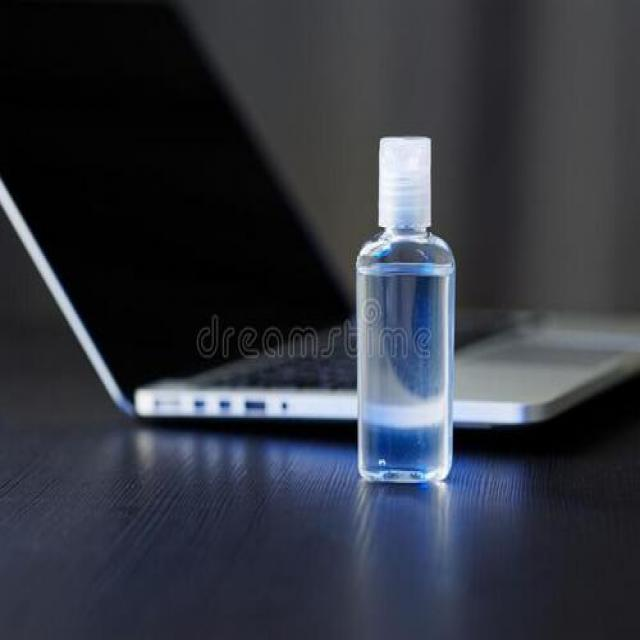sanitizer: (352, 126, 460, 488)
